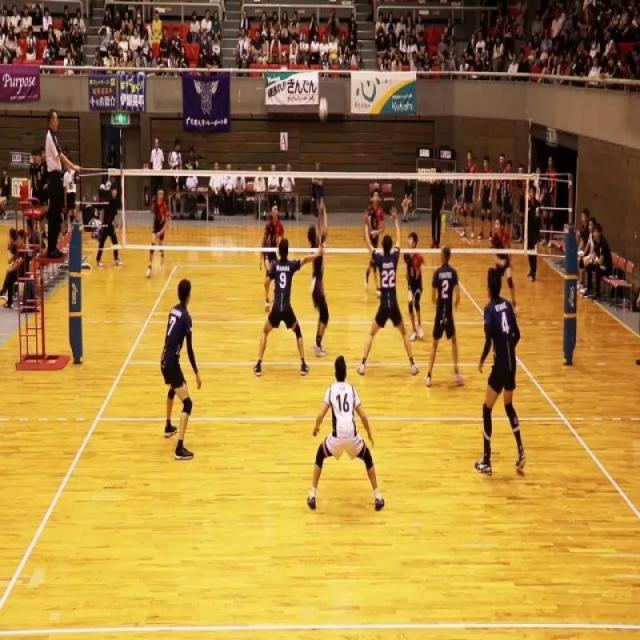volleyball: (318, 95, 329, 121)
